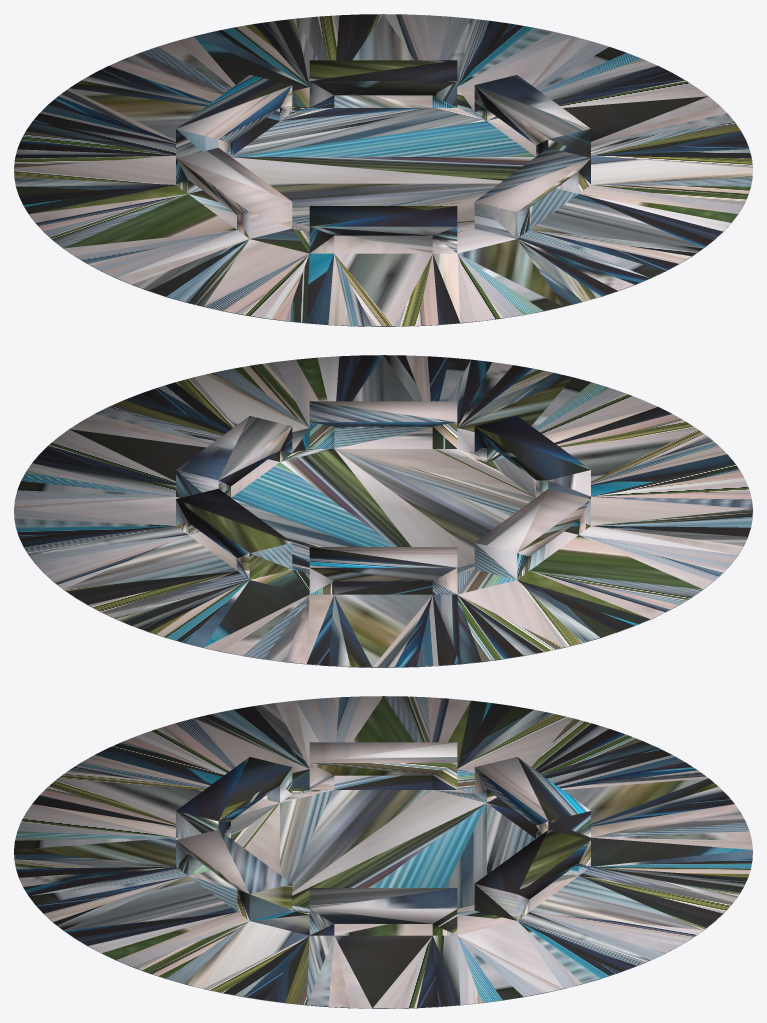
The model's file is parkour_4.dae.
The picture shows the model from 3 angles, top to bottom: view 1: azimuth 30°, elevation 25°; view 2: azimuth 150°, elevation 25°; view 3: azimuth 270°, elevation 25°; orthographic projection.
Parts seen in each view (by area): view 1: Parkour_3; view 2: Parkour_3; view 3: Parkour_3.
Boxes of the visible parts, box(x1,y1,x2,y2) form: Parkour_3: box(14, 14, 752, 326); Parkour_3: box(14, 355, 752, 667); Parkour_3: box(14, 696, 752, 1008).
Bounding box in the file's own units: 15 × 15 × 0.61.
Materials: 1 (1 with a texture image).
